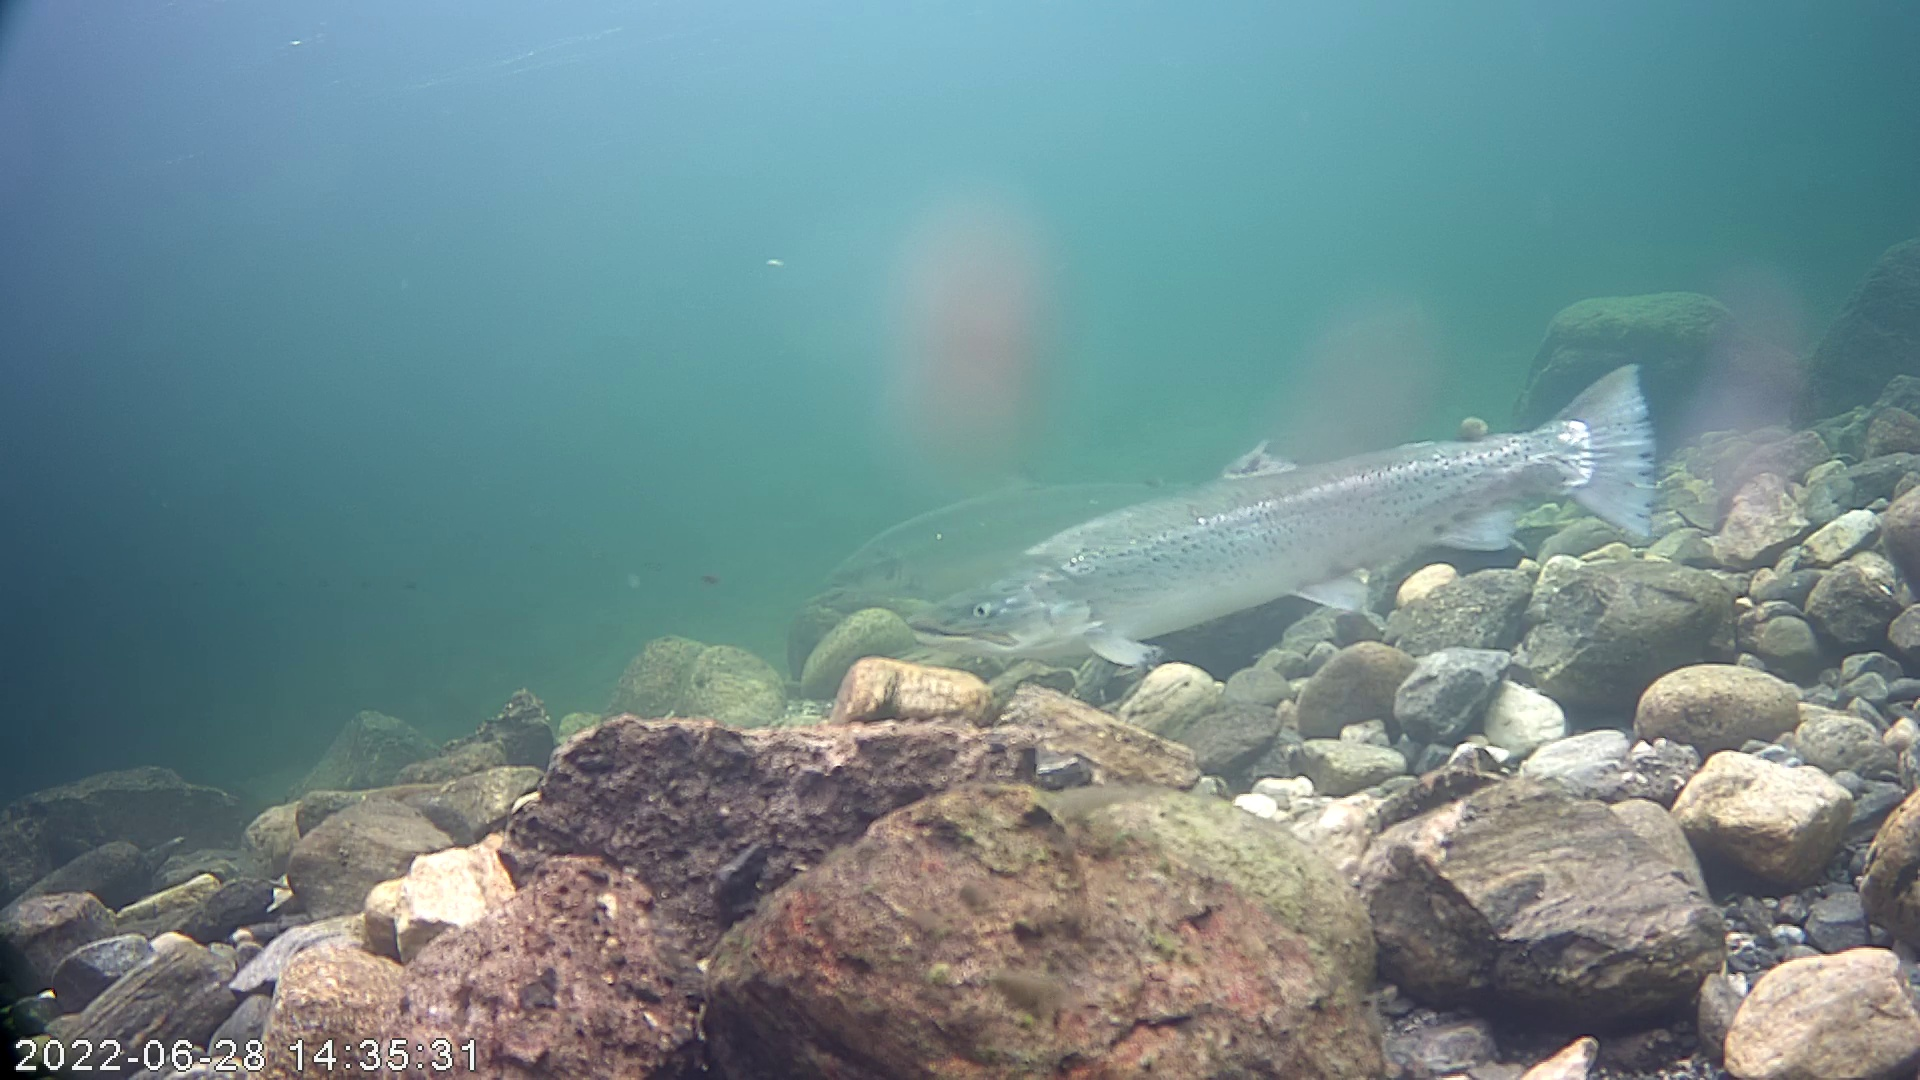salmon: (804, 272, 1698, 684)
